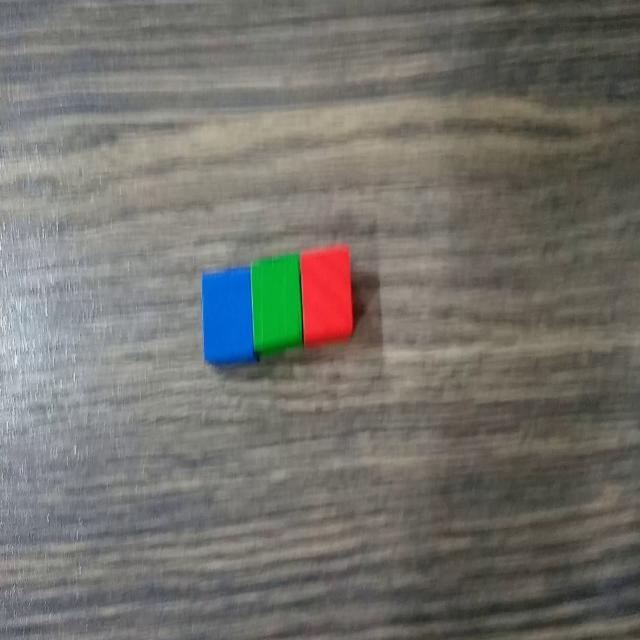cube: (199, 259, 255, 373), (250, 249, 303, 362), (299, 244, 355, 350)
